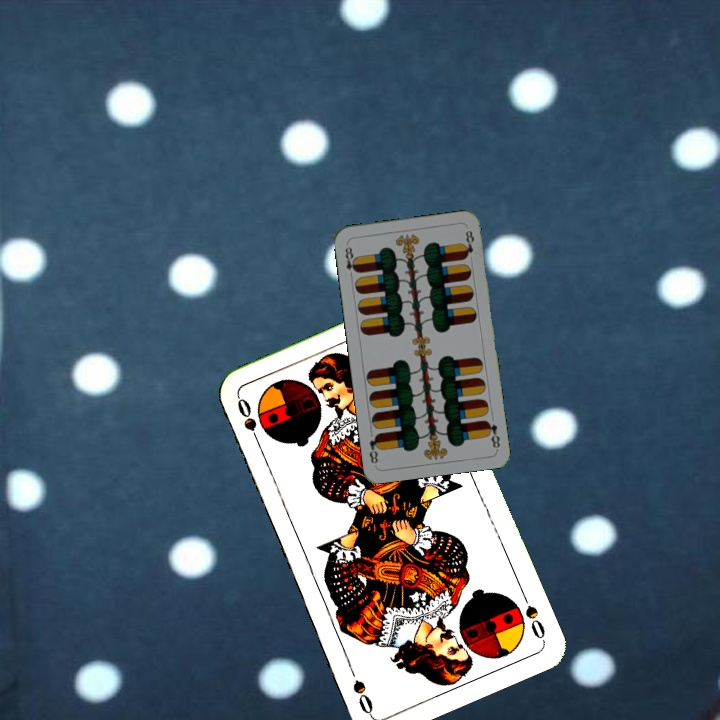E8: (341, 243, 360, 281), (482, 416, 502, 452)
SO: (233, 393, 264, 450), (517, 587, 548, 643)
